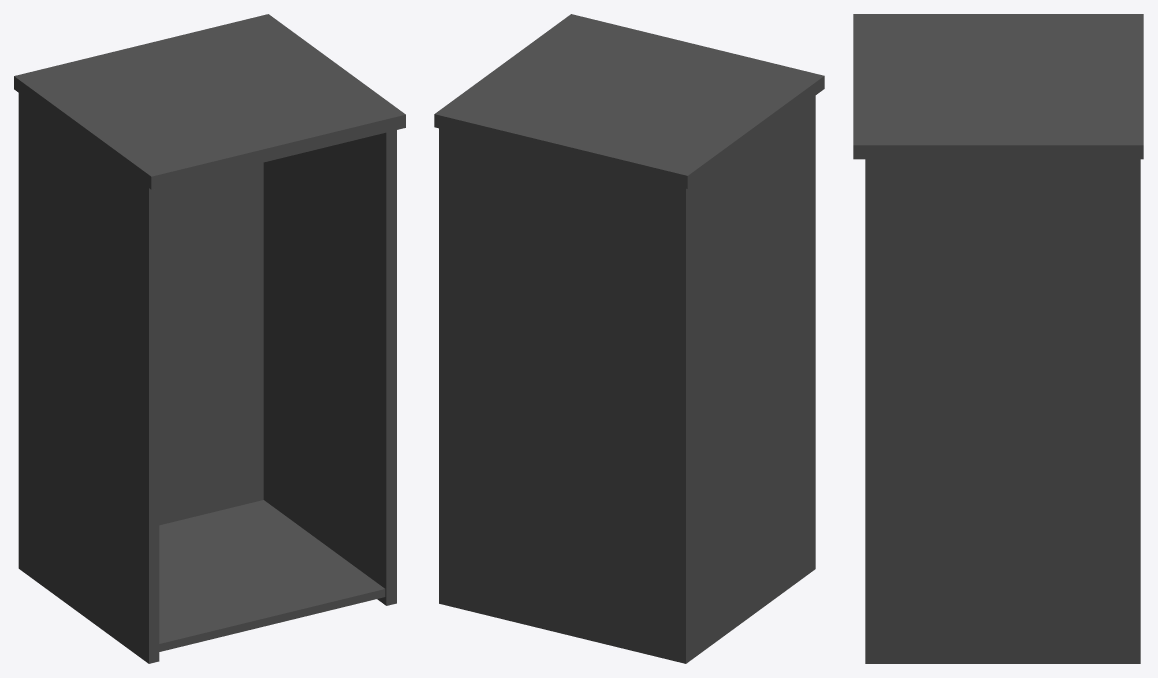
The model's file is FileCabinet_Standard.fbx.
The picture shows the model from 3 angles, left to right: view 1: azimuth 30°, elevation 25°; view 2: azimuth 150°, elevation 25°; view 3: azimuth 270°, elevation 25°; orthographic projection. The views are drawn at different scales.
Parts seen in each view (by area): view 1: FileCabinet_Standard; view 2: FileCabinet_Standard; view 3: FileCabinet_Standard.
Part boxes in pixels (left/top/right/bottom): FileCabinet_Standard: left=14, top=14, right=405, bottom=663; FileCabinet_Standard: left=434, top=14, right=824, bottom=663; FileCabinet_Standard: left=853, top=14, right=1143, bottom=663.
Bounding box in the file's own units: 56.82 × 105 × 53.14.
